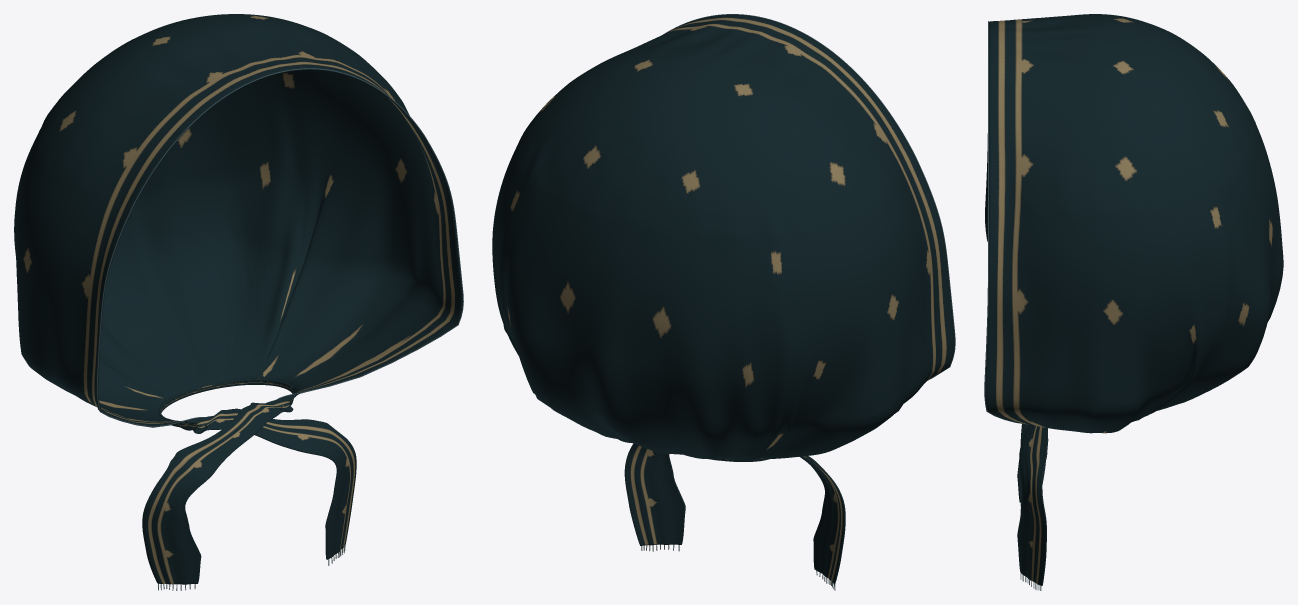
Rendered from Masculine-tank-pashmina246-headgear.glb.
3 views of the same model, side by side, from view 1: azimuth 30°, elevation 25°; view 2: azimuth 150°, elevation 25°; view 3: azimuth 270°, elevation 25° (orthographic). The views are drawn at different scales.
Visible parts, largest first — view 1: 226 headgear / Headwear / continuous woven pashmina239, 226 headgear / Headwear / face edge239; view 2: 226 headgear / Headwear / continuous woven pashmina239, 226 headgear / Headwear / face edge239; view 3: 226 headgear / Headwear / continuous woven pashmina239, 226 headgear / Headwear / face edge239.
Part boxes in pixels (<box>): 226 headgear / Headwear / continuous woven pashmina239: <box>14,14,462,584</box>; 226 headgear / Headwear / face edge239: <box>96,68,463,427</box>; 226 headgear / Headwear / continuous woven pashmina239: <box>492,14,954,584</box>; 226 headgear / Headwear / face edge239: <box>663,14,955,380</box>; 226 headgear / Headwear / continuous woven pashmina239: <box>985,14,1283,585</box>; 226 headgear / Headwear / face edge239: <box>984,21,1021,423</box>.
Size of the model in its own units: 1.03 by 1.35 by 0.7127.
Materials: 3 (1 with a texture image).
